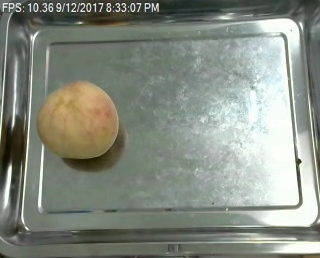Peach: (37, 79, 120, 160)
